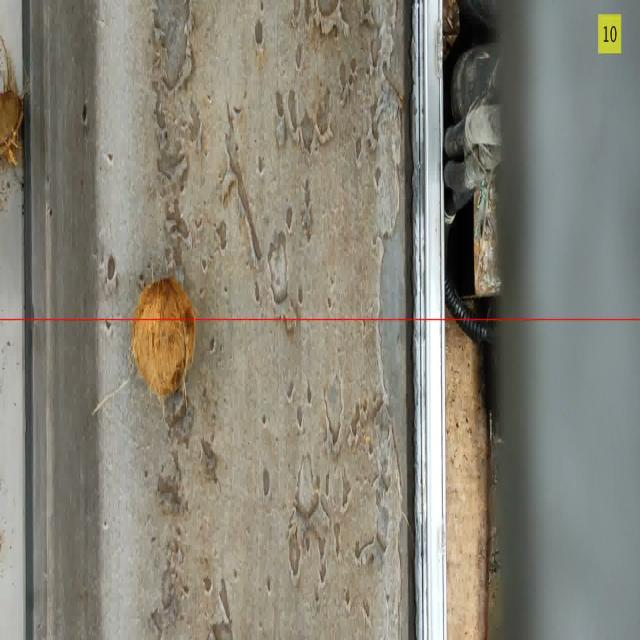Coconut-Conveyor-Belt: (133, 279, 194, 397), (0, 38, 23, 165)
